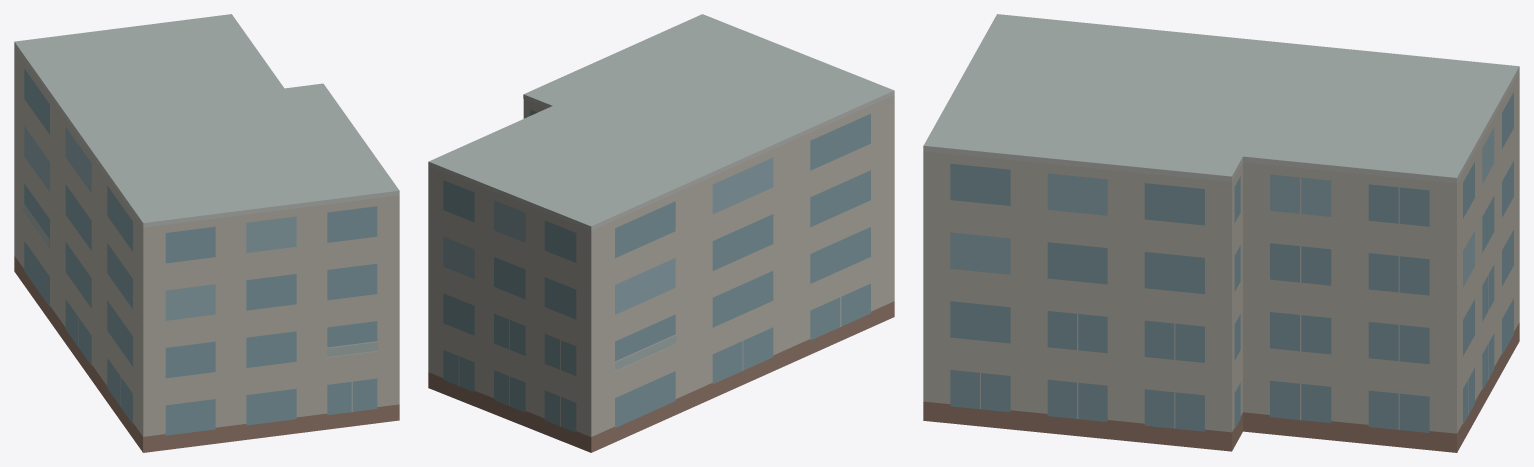
Rendered from residential-528d0357-6ced-4a79-9716-62bfd8179347.glb.
3 renders of one model, left to right at view 1: azimuth 30°, elevation 25°; view 2: azimuth 150°, elevation 25°; view 3: azimuth 270°, elevation 25°, orthographic. The views are drawn at different scales.
Parts seen in each view (by area): view 1: residential-528d0357-6ced-4a79-9716-62bfd8179347.tmp; view 2: residential-528d0357-6ced-4a79-9716-62bfd8179347.tmp; view 3: residential-528d0357-6ced-4a79-9716-62bfd8179347.tmp.
Boxes of the visible parts, x1,y1,x2,y2 form: residential-528d0357-6ced-4a79-9716-62bfd8179347.tmp: (14,14,399,452); residential-528d0357-6ced-4a79-9716-62bfd8179347.tmp: (428,14,894,452); residential-528d0357-6ced-4a79-9716-62bfd8179347.tmp: (923,14,1519,452).
Size of the model in its own units: 15.61 by 12.2 by 23.98.
